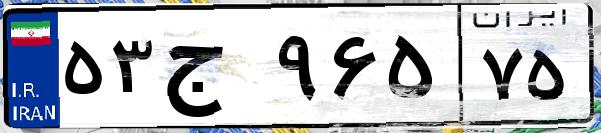3: (110, 28, 158, 98)
5: (385, 28, 445, 110), (57, 26, 110, 100), (525, 38, 570, 115)
6: (330, 28, 385, 110)
7: (475, 38, 525, 113)
9: (270, 28, 330, 110)
ج: (158, 20, 270, 120)
